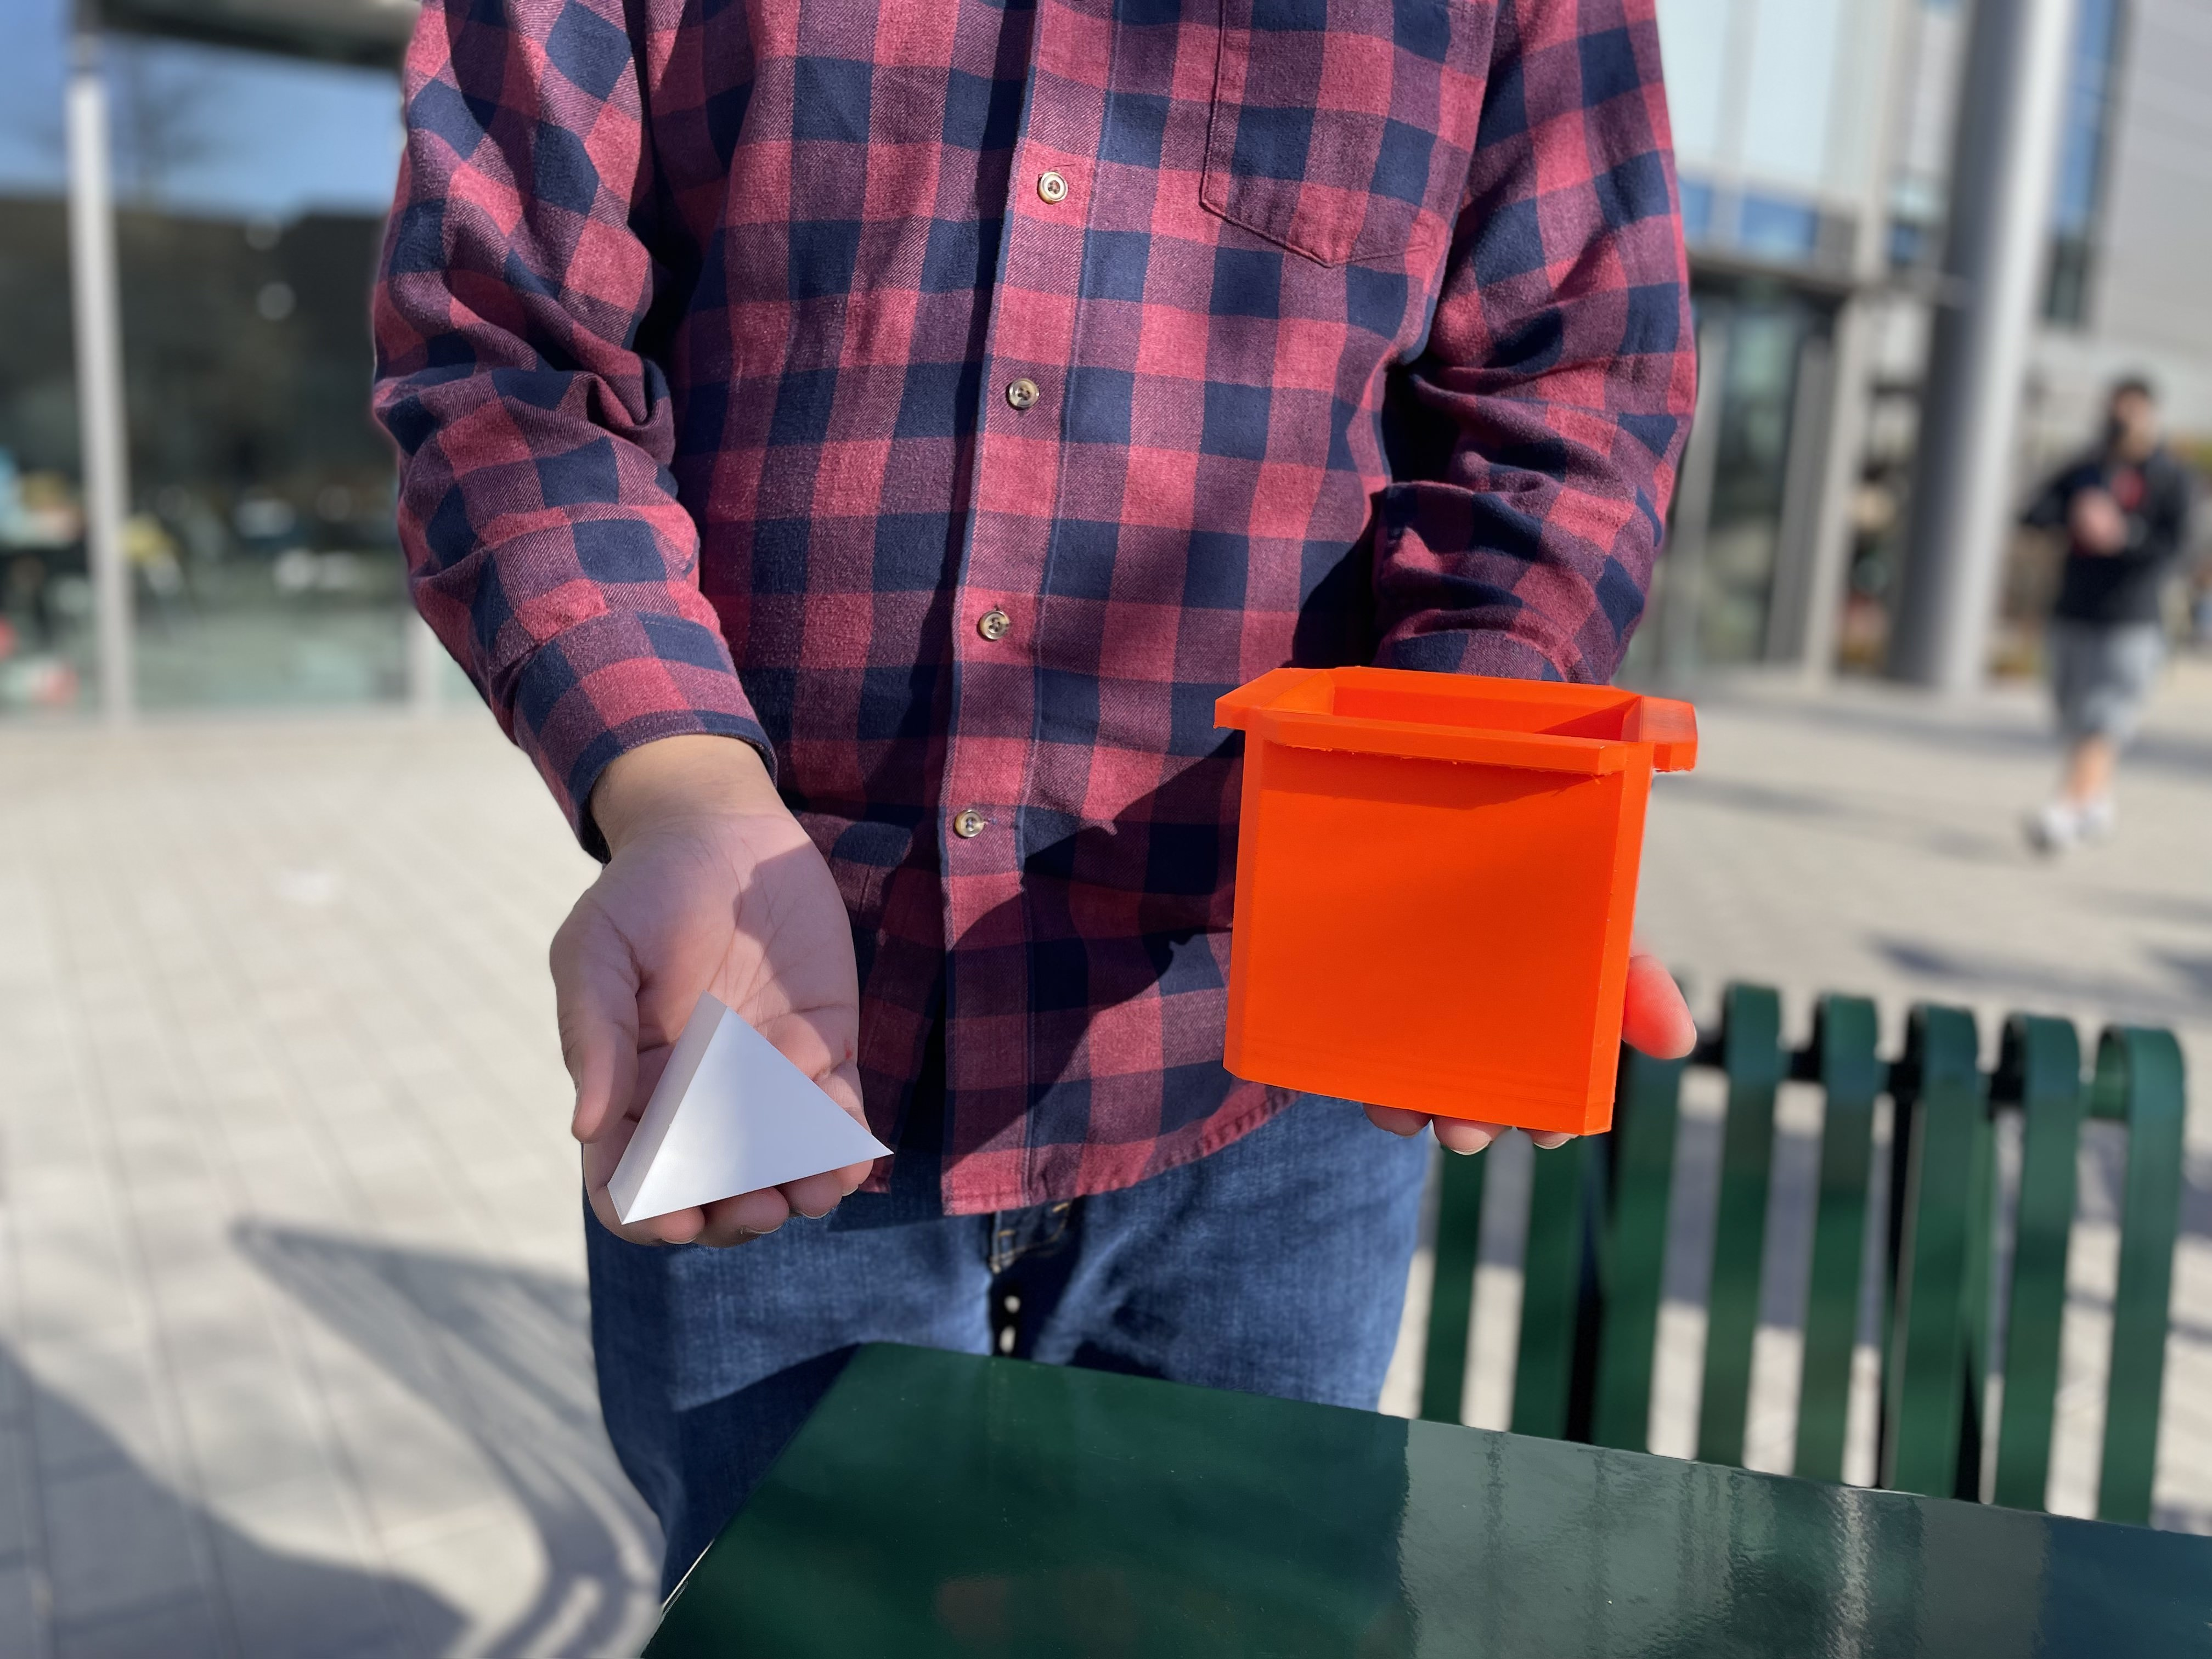payload1: (1191, 648, 1710, 1145)
payload2: (583, 988, 911, 1246)
